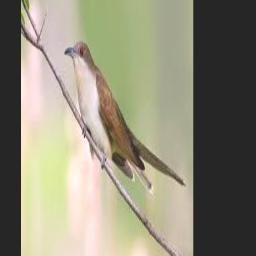Cuckoo: (64, 42, 187, 194)
